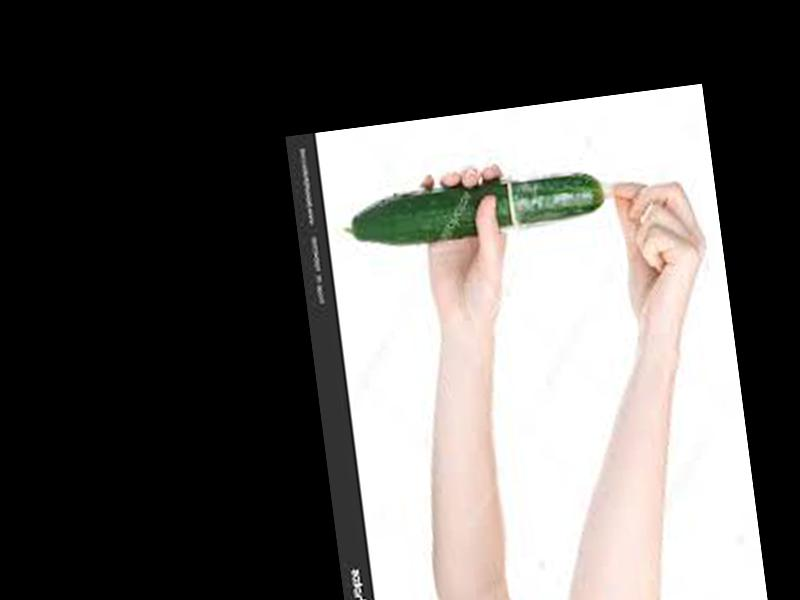Cucumber: (341, 169, 607, 248)
